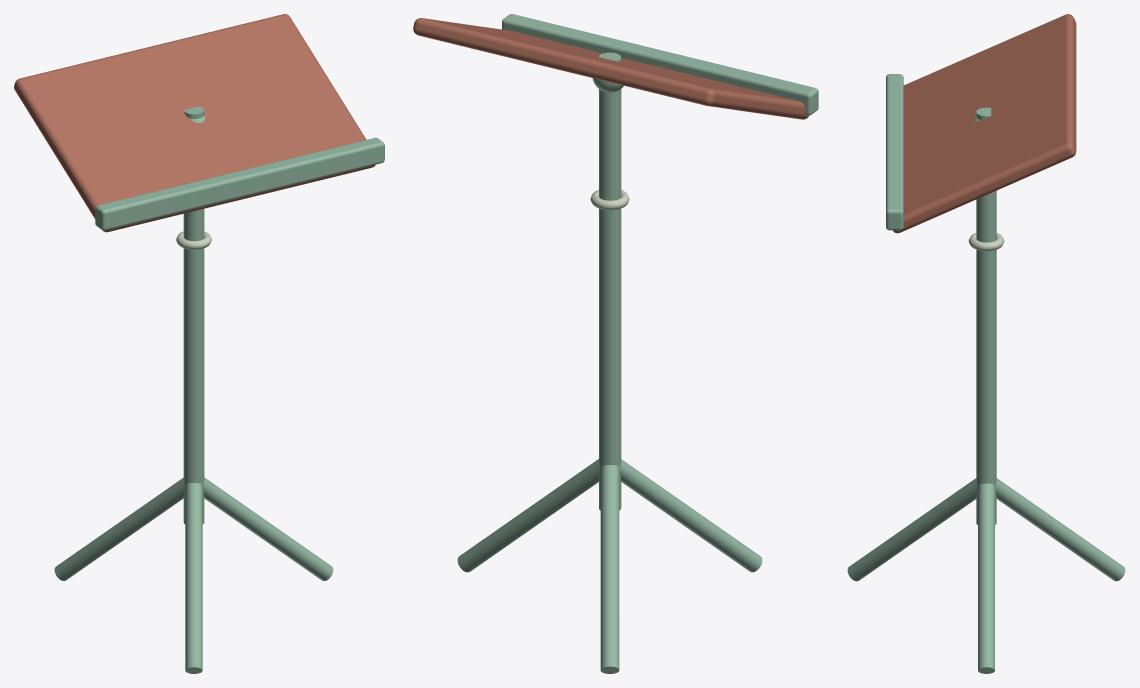
The model's file is enchanted-harp-garden-and-music-sanctuary-music-stand-25f3df5b__30423.glb.
The picture shows the model from 3 angles, left to right: view 1: azimuth 30°, elevation 25°; view 2: azimuth 150°, elevation 25°; view 3: azimuth 270°, elevation 25°; orthographic projection. The views are drawn at different scales.
Parts seen in each view (by area): view 1: music-stand; view 2: music-stand; view 3: music-stand.
Boxes of the visible parts, x1,y1,x2,y2 form: music-stand: (14,14,384,673); music-stand: (413,14,818,673); music-stand: (847,14,1125,673).
Bounding box in the file's own units: 0.64 × 1.15 × 0.5456.
